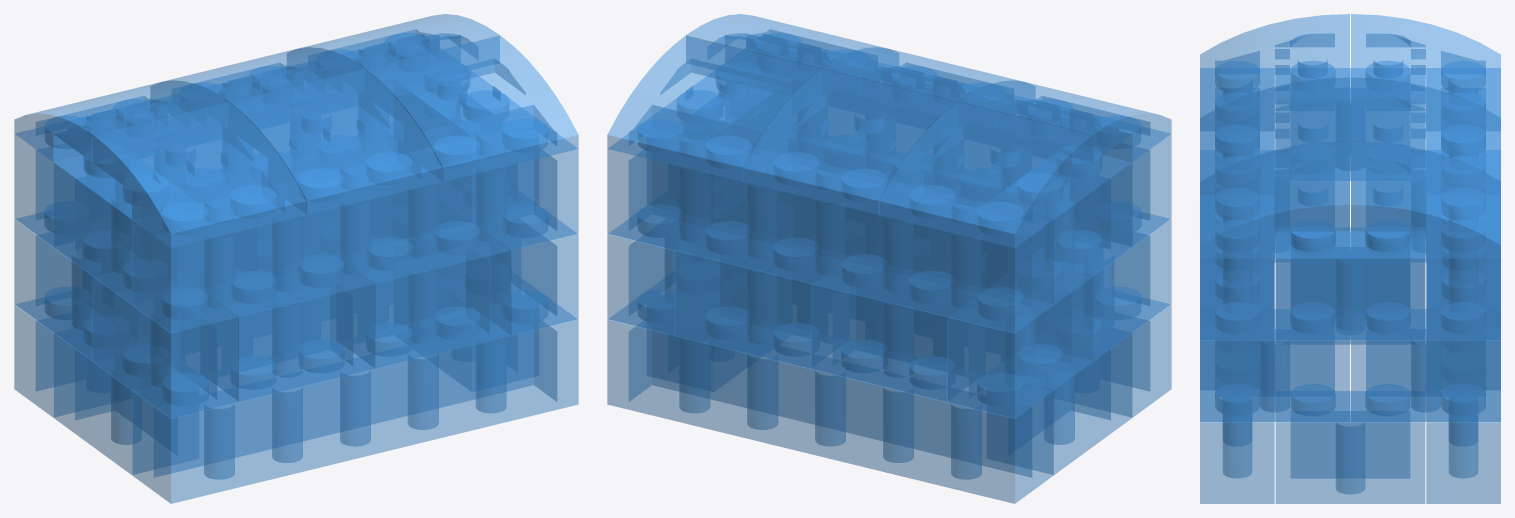
File: build.glb
The picture shows the model from 3 angles, left to right: view 1: azimuth 30°, elevation 25°; view 2: azimuth 150°, elevation 25°; view 3: azimuth 270°, elevation 25°; orthographic projection. The views are drawn at different scales.
Visible parts, largest first — view 1: 3009.dat (×4), 3004.dat (×10), 15068.dat (×6); view 2: 3009.dat (×4), 3004.dat (×10), 15068.dat (×6); view 3: 3004.dat (×10), 15068.dat (×6), 3009.dat (×4).
Boxes of the visible parts, bbox=[...] form: 3009.dat (×4): bbox=[14, 33, 578, 503]; 3004.dat (×10): bbox=[14, 63, 578, 474]; 15068.dat (×6): bbox=[14, 14, 578, 247]; 3009.dat (×4): bbox=[607, 33, 1171, 503]; 3004.dat (×10): bbox=[607, 63, 1171, 474]; 15068.dat (×6): bbox=[607, 14, 1171, 247]; 3004.dat (×10): bbox=[1200, 61, 1500, 503]; 15068.dat (×6): bbox=[1200, 14, 1500, 258]; 3009.dat (×4): bbox=[1200, 61, 1500, 503].
Size of the model in its own units: 0.0479 by 0.0351 by 0.0319.
